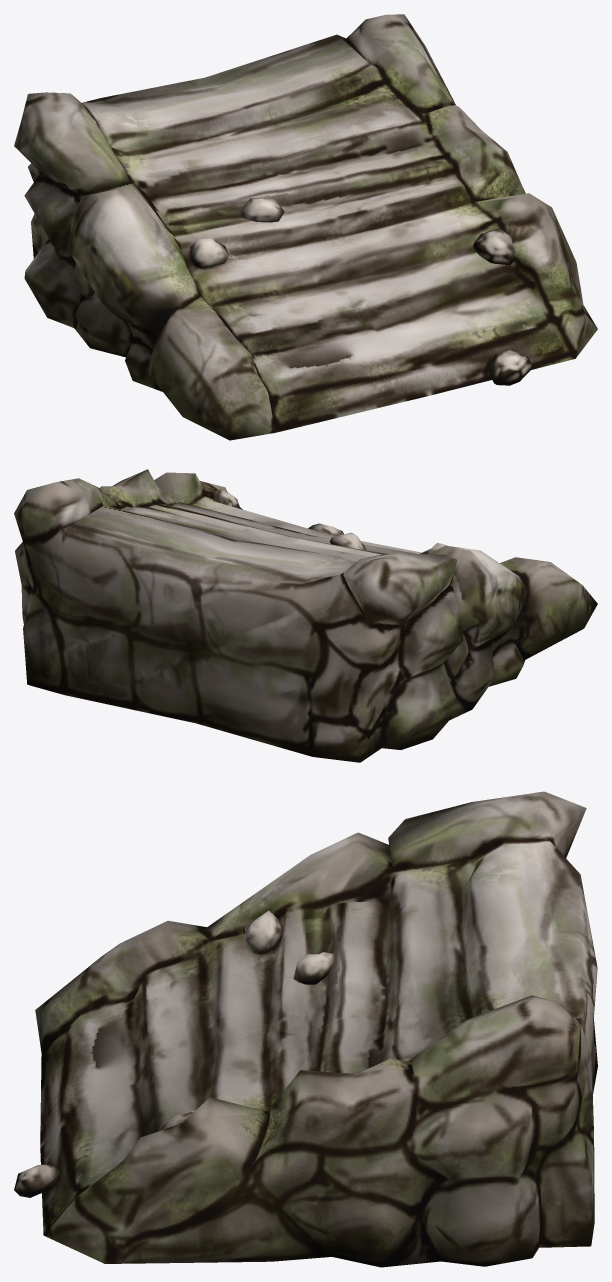
File: PRP_StairBoulderA.FBX
3 renders of one model, top to bottom at view 1: azimuth 30°, elevation 25°; view 2: azimuth 150°, elevation 25°; view 3: azimuth 270°, elevation 25°, orthographic. The views are drawn at different scales.
Parts seen in each view (by area): view 1: PRP_StairBoulderA; view 2: PRP_StairBoulderA; view 3: PRP_StairBoulderA.
Part boxes in pixels (box(x1,y1,x2,y2)): PRP_StairBoulderA: box(14, 14, 597, 440); PRP_StairBoulderA: box(14, 469, 597, 762); PRP_StairBoulderA: box(14, 791, 597, 1267).
Bounding box in the file's own units: 659 × 289 × 614.
